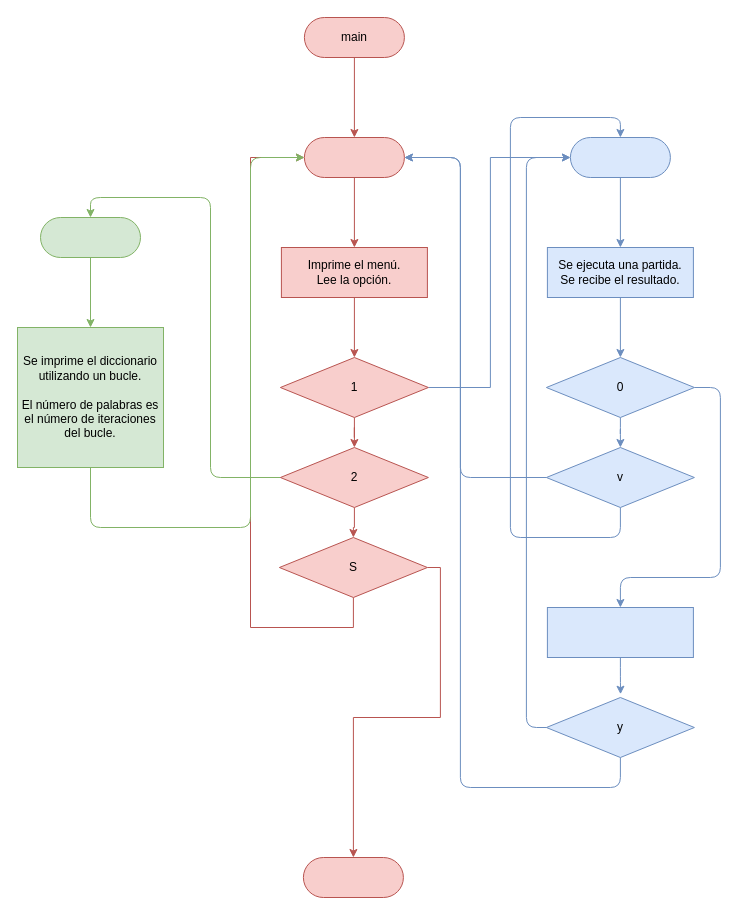
This 746x915 diagram has some shape labels left out. Each missing label, with the box of its shape:
acabar: (302, 856, 403, 898)
diccionario: (40, 216, 140, 258)
jugar: (569, 136, 670, 178)
menu: (303, 136, 404, 178)
Se incrementa la palabra. Se pide volver a jugar: (546, 606, 693, 658)
